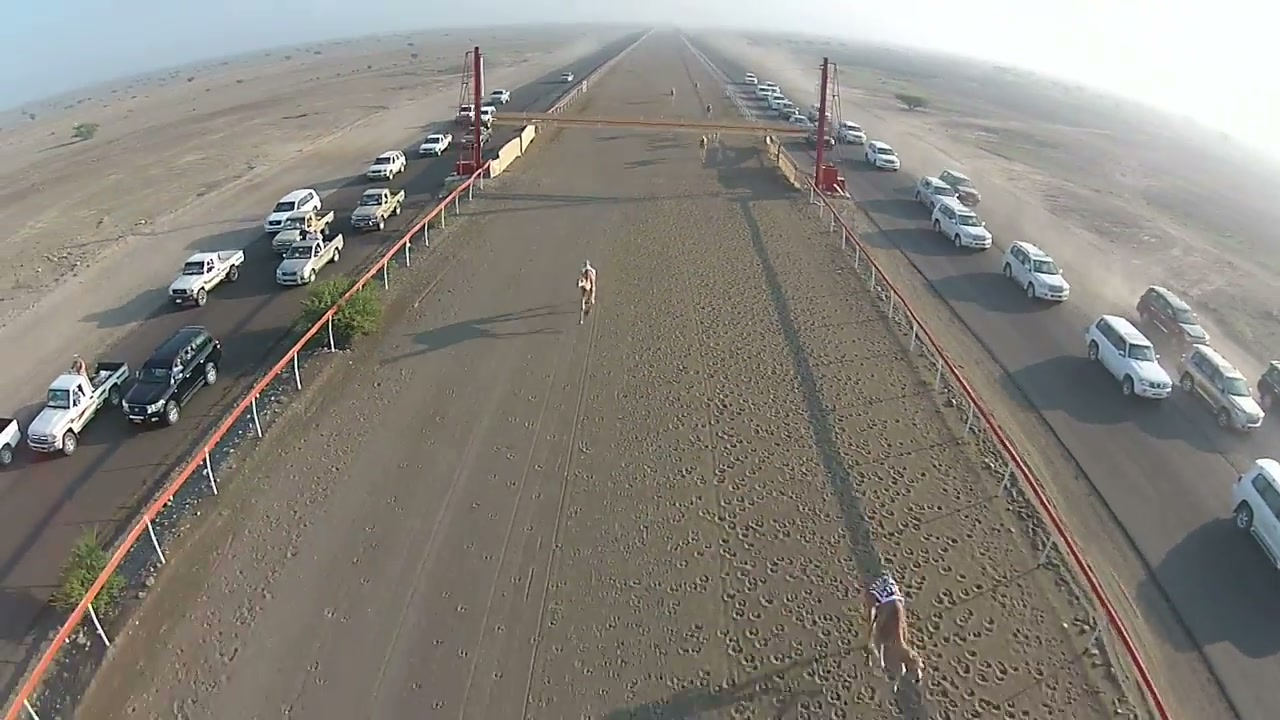animal_footprint: (644, 242, 879, 708), (778, 275, 1020, 691)
